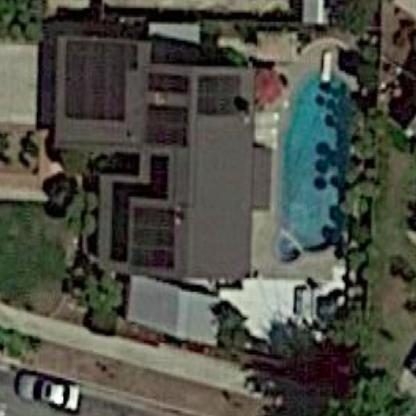car: (10, 364, 82, 416)
solar_panel: (62, 37, 142, 130), (145, 67, 196, 154), (127, 194, 182, 271), (192, 71, 249, 122)
swimming_pool: (265, 49, 371, 279)
